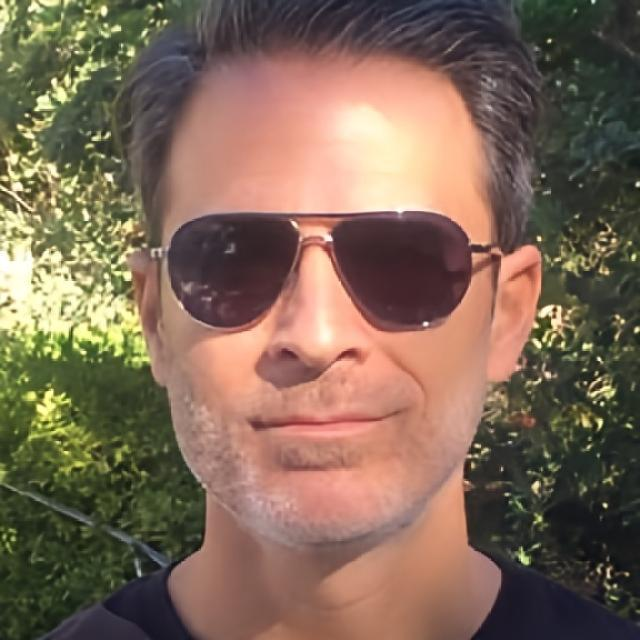content: (160, 58, 497, 544)
